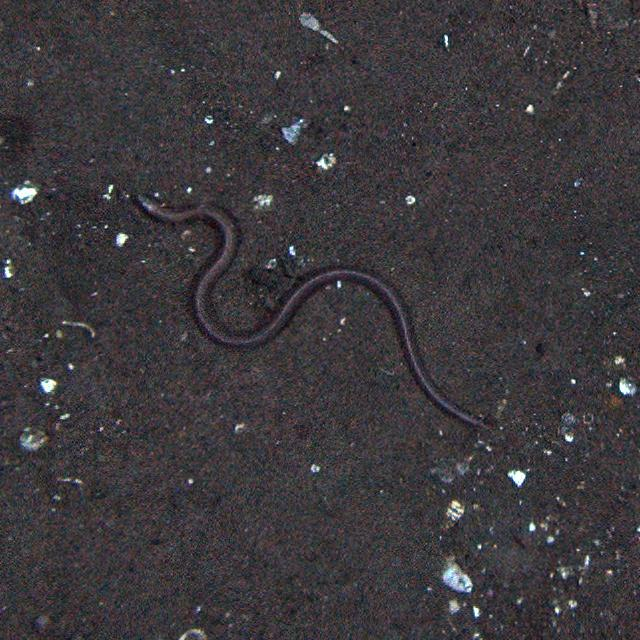eel: (132, 190, 494, 436)
